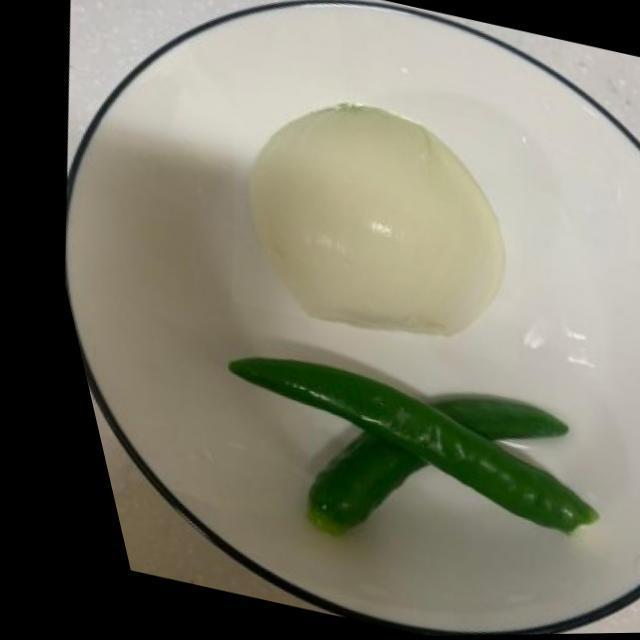Onion: (174, 64, 559, 370)
